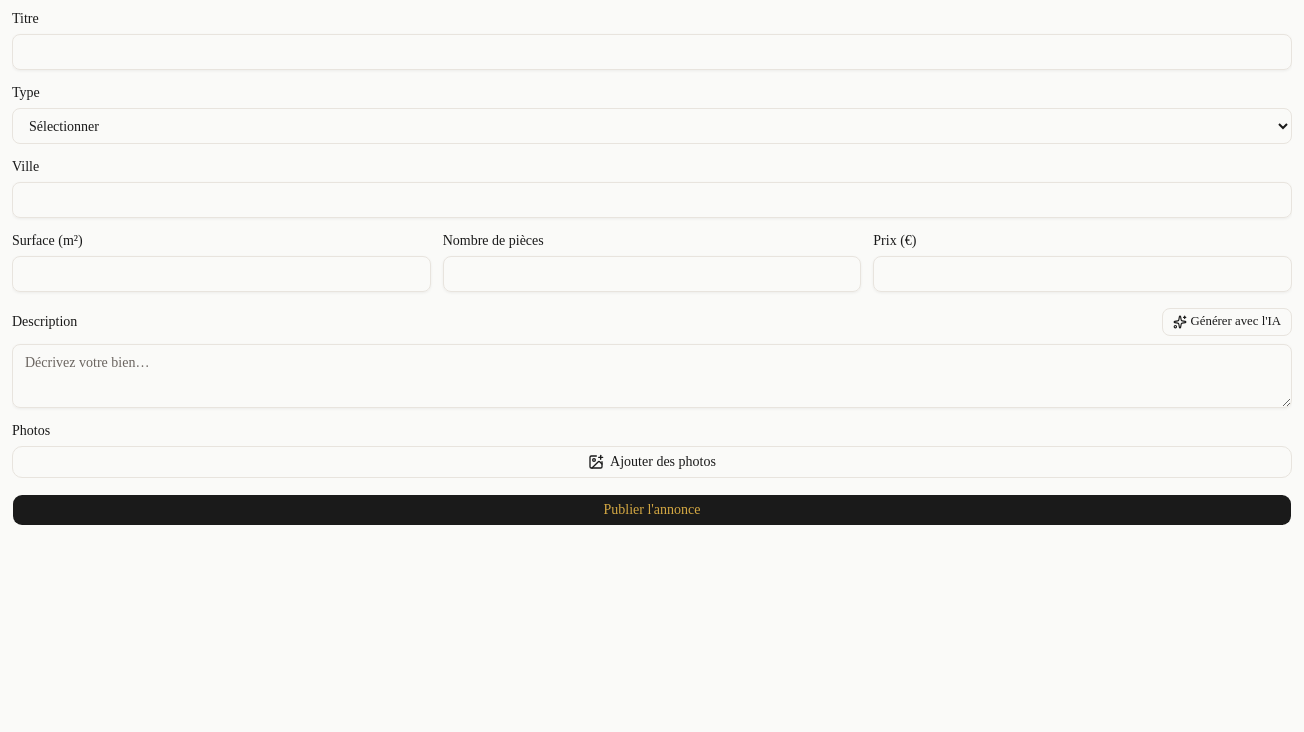
Test: <ListingForm> › shows an error when generation fails
The image size is (1304, 732).
Click the button "Générer avec l'IA" at (1227, 322), box [1162,308,1292,336]
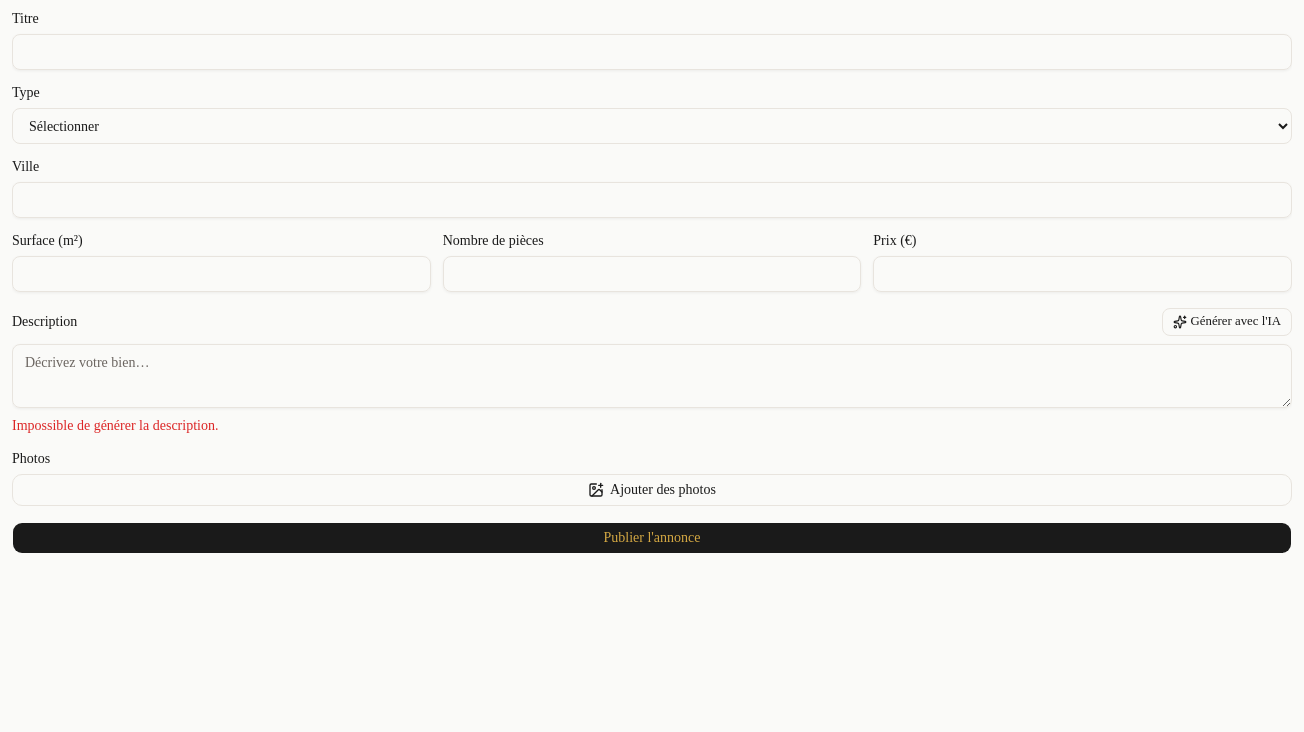
Now the message reads "Impossible de générer la description.", box [12,418,218,433]
